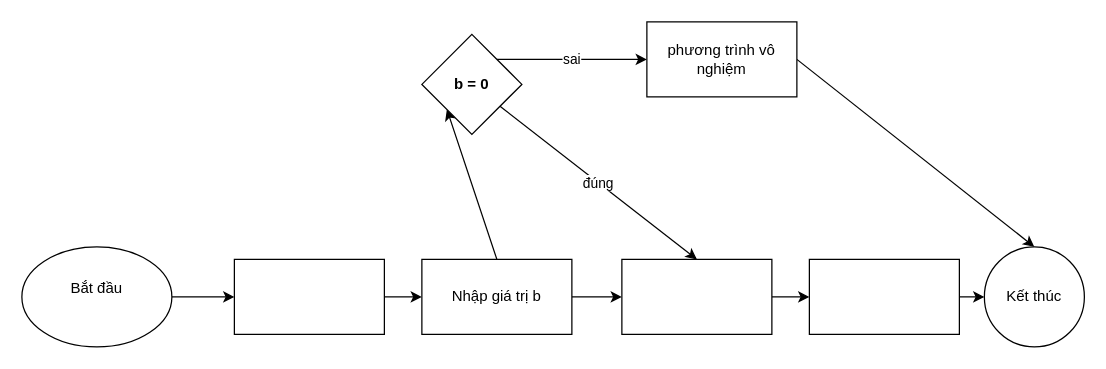
Some shapes in this 1106 by 369 pixel diagram are drawn without their labels. The centre of each missing label's shape, as x and y in pixels:
"chia a và b" goes at point 696,296.
"In kết quả" goes at point 883,296.
"Nhập giá trị a" goes at point 308,296.
